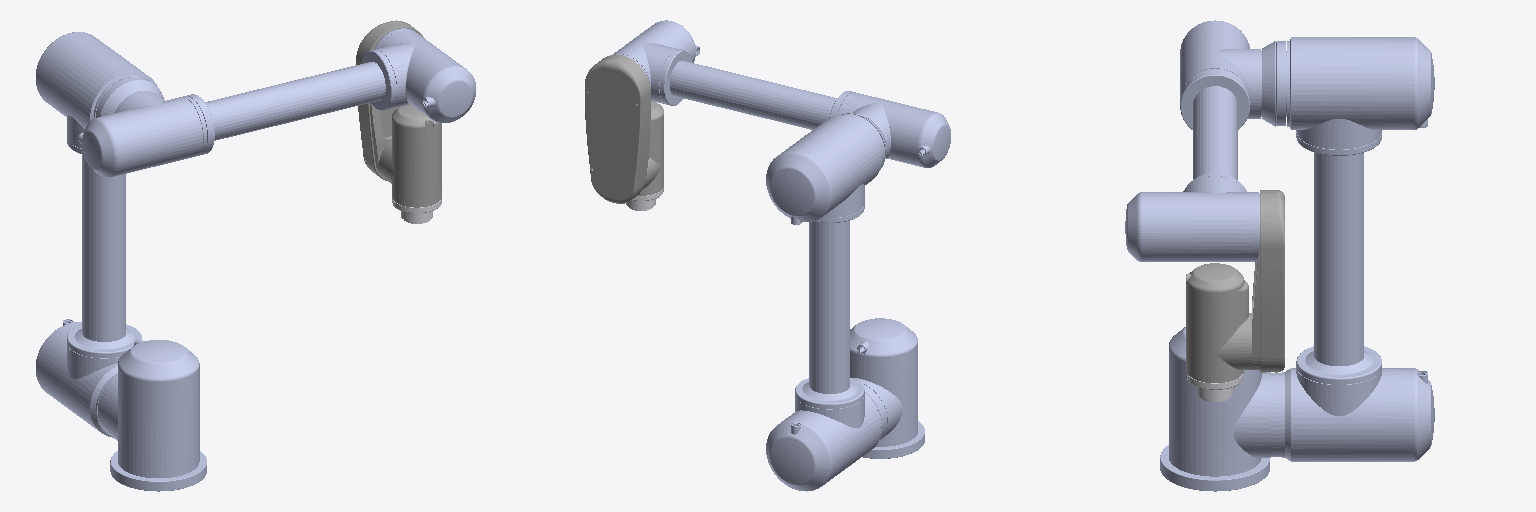
The robot description file, URDF, robot "awtube3184v1":
<?xml version="1.0" encoding="utf-8"?>
<!-- This URDF was automatically created by SolidWorks to URDF Exporter! Originally created by [author] ([email redacted]) 
     Commit Version: 1.5.1-0-g916b5db  Build Version: 1.5.7152.31018
     For more information, please see http://wiki.ros.org/sw_urdf_exporter -->
<robot
  name="awtube3184v1">
  <link
    name="awtube3_baselink">
    <inertial>
      <origin
        xyz="0 0 0.01224"
        rpy="0 0 0" />
      <mass
        value="1.95" />
      <inertia
        ixx="0.006968"
        ixy="-2.18E-06"
        ixz="1.4E-07"
        iyy="0.0069639"
        iyz="-3.4E-07"
        izz="0.013626" />
    </inertial>
    <visual>
      <origin
        xyz="0 0 0"
        rpy="0 0 0" />
      <geometry>
        <mesh
          filename="package://awtube31814v2/meshes/base_link.STL" />
      </geometry>
      <material
        name="">
        <color
          rgba="0.79216 0.81961 0.93333 1" />
      </material>
    </visual>
    <collision>
      <origin
        xyz="0 0 0"
        rpy="0 0 0" />
      <geometry>
        <mesh
          filename="package://awtube31814v2/meshes/controllo/base_link.STL" />
      </geometry>
    </collision>
  </link>
  <link
    name="awtube3_link1">
    <inertial>
      <origin
        xyz="0 0.00349 0.076"
        rpy="0 0 0" />
      <mass
        value="16.69" />
      <inertia
        ixx="0.094946"
        ixy="2.147E-05"
        ixz="2.307E-05"
        iyy="0.092858"
        iyz="0.0008169"
        izz="0.07077" />
    </inertial>
    <visual>
      <origin
        xyz="0 0 0"
        rpy="0 0 0" />
      <geometry>
        <mesh
          filename="package://awtube31814v2/meshes/link1.STL" />
      </geometry>
      <material
        name="">
        <color
          rgba="0.79216 0.81961 0.93333 1" />
      </material>
    </visual>
    <collision>
      <origin
        xyz="0 0 0"
        rpy="0 0 0" />
      <geometry>
        <mesh
          filename="package://awtube31814v2/meshes/controllo/link1.STL" />
      </geometry>
    </collision>
  </link>
  <joint
    name="awtube3_joint1"
    type="revolute">
    <origin
      xyz="0 0 0.025"
      rpy="0 0 0" />
    <parent
      link="awtube3_baselink" />
    <child
      link="awtube3_link1" />
    <axis
      xyz="0 0 -1" />
    <limit
      lower="-3.14"
      upper="3.14"
      effort="600"
      velocity="1.2436" />
    <dynamics
      damping="1"
      friction="0.1" />
  </joint>
  <link
    name="awtube3_link2">
    <inertial>
      <origin
        xyz="0 0.30898 0.12674"
        rpy="0 0 0" />
      <mass
        value="39.94" />
      <inertia
        ixx="4.4546"
        ixy="0.00046796"
        ixz="-0.000451"
        iyy="0.22756"
        iyz="0.16036"
        izz="4.4772" />
    </inertial>
    <visual>
      <origin
        xyz="0 0 0"
        rpy="0 0 0" />
      <geometry>
        <mesh
          filename="package://awtube31814v2/meshes/link2.STL" />
      </geometry>
      <material
        name="">
        <color
          rgba="0.79216 0.81961 0.93333 1" />
      </material>
    </visual>
    <collision>
      <origin
        xyz="0 0 0"
        rpy="0 0 0" />
      <geometry>
        <mesh
          filename="package://awtube31814v2/meshes/controllo/link2.STL" />
      </geometry>
    </collision>
  </link>
  <joint
    name="awtube3_joint2"
    type="revolute">
    <origin
      xyz="0 0.1045 0.092"
      rpy="1.5708 0 3.1416" />
    <parent
      link="awtube3_link1" />
    <child
      link="awtube3_link2" />
    <axis
      xyz="0 0 -1" />
    <limit
      lower="-3.14"
      upper="3.14"
      effort="690"
      velocity="0.86" />
    <dynamics
      damping="1"
      friction="0.1" />
  </joint>
  <link
    name="awtube3_link3">
    <inertial>
      <origin
        xyz="0.00016 -0.0013 0.1197"
        rpy="0 0 0" />
      <mass
        value="11.22" />
      <inertia
        ixx="0.074875"
        ixy="-8.918E-05"
        ixz="7.47E-06"
        iyy="0.058319"
        iyz="0.00045279"
        izz="0.047599" />
    </inertial>
    <visual>
      <origin
        xyz="0 0 0"
        rpy="0 0 0" />
      <geometry>
        <mesh
          filename="package://awtube31814v2/meshes/link3.STL" />
      </geometry>
      <material
        name="">
        <color
          rgba="0.79216 0.81961 0.93333 1" />
      </material>
    </visual>
    <collision>
      <origin
        xyz="0 0 0"
        rpy="0 0 0" />
      <geometry>
        <mesh
          filename="package://awtube31814v2/meshes/controllo/link3.STL" />
      </geometry>
    </collision>
  </link>
  <joint
    name="awtube3_joint3"
    type="revolute">
    <origin
      xyz="0 0.725 0.0495"
      rpy="3.1416 0 -1.5716" />
    <parent
      link="awtube3_link2" />
    <child
      link="awtube3_link3" />
    <axis
      xyz="0 0 -1" />
    <limit
      lower="-4.71"
      upper="1.57"
      effort="350"
      velocity="1.24" />
    <dynamics
      damping="1"
      friction="0.1" />
  </joint>
  <link
    name="awtube3_link4">
    <inertial>
      <origin
        xyz="0.00017 -0.00138 0.52167"
        rpy="0 0 0" />
      <mass
        value="10.41" />
      <inertia
        ixx="0.27041"
        ixy="-9.998E-05"
        ixz="4.737E-05"
        iyy="0.2559"
        iyz="-0.00094108"
        izz="0.0041331" />
    </inertial>
    <visual>
      <origin
        xyz="0 0 0"
        rpy="0 0 0" />
      <geometry>
        <mesh
          filename="package://awtube31814v2/meshes/link4.STL" />
      </geometry>
      <material
        name="">
        <color
          rgba="0.79216 0.81961 0.93333 1" />
      </material>
    </visual>
    <collision>
      <origin
        xyz="0 0 0"
        rpy="0 0 0" />
      <geometry>
        <mesh
          filename="package://awtube31814v2/meshes/controllo/link4.STL" />
      </geometry>
    </collision>
  </link>
  <joint
    name="awtube3_joint4"
    type="revolute">
    <origin
      xyz="0 0.0874 0.154"
      rpy="-1.5708 0 0" />
    <parent
      link="awtube3_link3" />
    <child
      link="awtube3_link4" />
    <axis
      xyz="0 0 -1" />
    <limit
      lower="-3.14"
      upper="3.14"
      effort="145"
      velocity="2.71" />
    <dynamics
      damping="1"
      friction="0.1" />
  </joint>
  <link
    name="awtube3_link5">
    <inertial>
      <origin
        xyz="-0.0001 -0.21611 -0.05722"
        rpy="0 0 0" />
      <mass
        value="5.53" />
      <inertia
        ixx="0.0513796"
        ixy="-2.862E-05"
        ixz="-5.2918E-10"
        iyy="0.021934"
        iyz="0.013126"
        izz="0.04297" />
    </inertial>
    <visual>
      <origin
        xyz="0 0 0"
        rpy="0 0 0" />
      <geometry>
        <mesh
          filename="package://awtube31814v2/meshes/link5.STL" />
      </geometry>
      <material
        name="">
        <color
          rgba="0.69804 0.69804 0.69804 1" />
      </material>
    </visual>
    <collision>
      <origin
        xyz="0 0 0"
        rpy="0 0 0" />
      <geometry>
        <mesh
          filename="package://awtube31814v2/meshes/controllo/link5.STL" />
      </geometry>
    </collision>
  </link>
  <joint
    name="awtube3_joint5"
    type="revolute">
    <origin
      xyz="0 0.0924 0.5876"
      rpy="-1.5708 1.5708 0" />
    <parent
      link="awtube3_link4" />
    <child
      link="awtube3_link5" />
    <axis
      xyz="0 0 -1" />
    <limit
      lower="-1.6"
      upper="4.71"
      effort="145"
      velocity="2.71" />
    <dynamics
      damping="1"
      friction="0.1" />
  </joint>
  <link
    name="awtube3_link6">
    <inertial>
      <origin
        xyz="0 0 -0.03078"
        rpy="0 0 0" />
      <mass
        value="0.42" />
      <inertia
        ixx="0.00044945"
        ixy="-4.07E-06"
        ixz="-3E-07"
        iyy="0.00030626"
        iyz="-6.8E-07"
        izz="0.00067925" />
    </inertial>
    <visual>
      <origin
        xyz="0 0 0"
        rpy="0 0 0" />
      <geometry>
        <mesh
          filename="package://awtube31814v2/meshes/link6.STL" />
      </geometry>
      <material
        name="">
        <color
          rgba="0.8902 0.8902 0.91373 1" />
      </material>
    </visual>
    <collision>
      <origin
        xyz="0 0 0"
        rpy="0 0 0" />
      <geometry>
        <mesh
          filename="package://awtube31814v2/meshes/controllo/link6.STL" />
      </geometry>
    </collision>
  </link>
  <joint
    name="awtube3_joint6"
    type="revolute">
    <origin
      xyz="0 -0.3681 -0.0924"
      rpy="1.5708 0 0" />
    <parent
      link="awtube3_link5" />
    <child
      link="awtube3_link6" />
    <axis
      xyz="0 0 -1" />
    <limit
      lower="-3.14"
      upper="3.14"
      effort="85"
      velocity="3.61" />
    <dynamics
      damping="1"
      friction="0.1" />
  </joint>
</robot>

--- Render facts (derived) ---
3 views of the same robot in one strip: view 1: azimuth 30°, elevation 25°; view 2: azimuth 150°, elevation 25°; view 3: azimuth 270°, elevation 25° (orthographic).
Robot: awtube3184v1 — 7 links, 6 joints (6 revolute); root link awtube3_baselink; default pose: every joint at zero.
Visible links, largest first — view 1: awtube3_link2, awtube3_link4, awtube3_link1, awtube3_link3, awtube3_link5, awtube3_baselink, awtube3_link6; view 2: awtube3_link2, awtube3_link5, awtube3_link4, awtube3_link1, awtube3_link3, awtube3_baselink; view 3: awtube3_link2, awtube3_link4, awtube3_link5, awtube3_link1, awtube3_link3, awtube3_baselink, awtube3_link6.
Boxes of the visible links, box(x1,y1,x2,y2) form: awtube3_link2: box(36, 32, 144, 437); awtube3_link4: box(187, 28, 475, 154); awtube3_link1: box(103, 339, 199, 477); awtube3_link3: box(78, 71, 206, 177); awtube3_link5: box(356, 20, 441, 207); awtube3_baselink: box(110, 451, 206, 491); awtube3_link6: box(392, 199, 441, 223); awtube3_link2: box(766, 116, 888, 491); awtube3_link5: box(585, 55, 663, 203); awtube3_link4: box(613, 20, 852, 129); awtube3_link1: box(850, 318, 917, 446); awtube3_link3: box(827, 92, 950, 174); awtube3_baselink: box(863, 421, 924, 458); awtube3_link2: box(1268, 37, 1434, 461); awtube3_link4: box(1125, 71, 1259, 261); awtube3_link5: box(1186, 190, 1284, 382); awtube3_link1: box(1169, 327, 1267, 476); awtube3_link3: box(1180, 20, 1292, 129); awtube3_baselink: box(1160, 445, 1269, 491); awtube3_link6: box(1187, 374, 1242, 401).
Size in the robot's own frame: 0.9335 by 0.6138 by 0.9345 metres.
7 mesh visuals loaded from 7 distinct referenced files (7 binary STL).